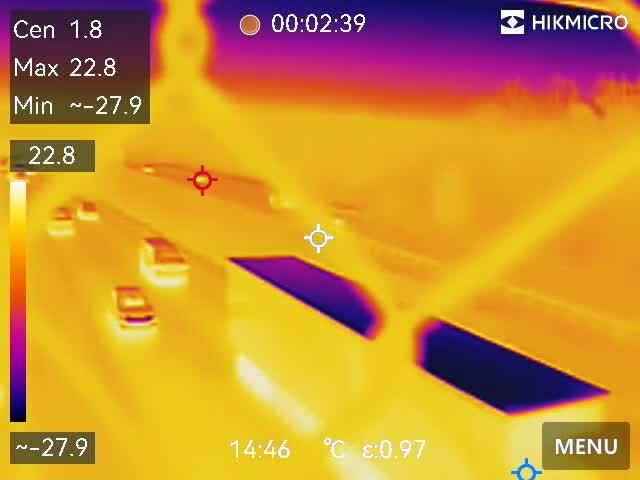heavyTruck: (220, 251, 628, 472)
